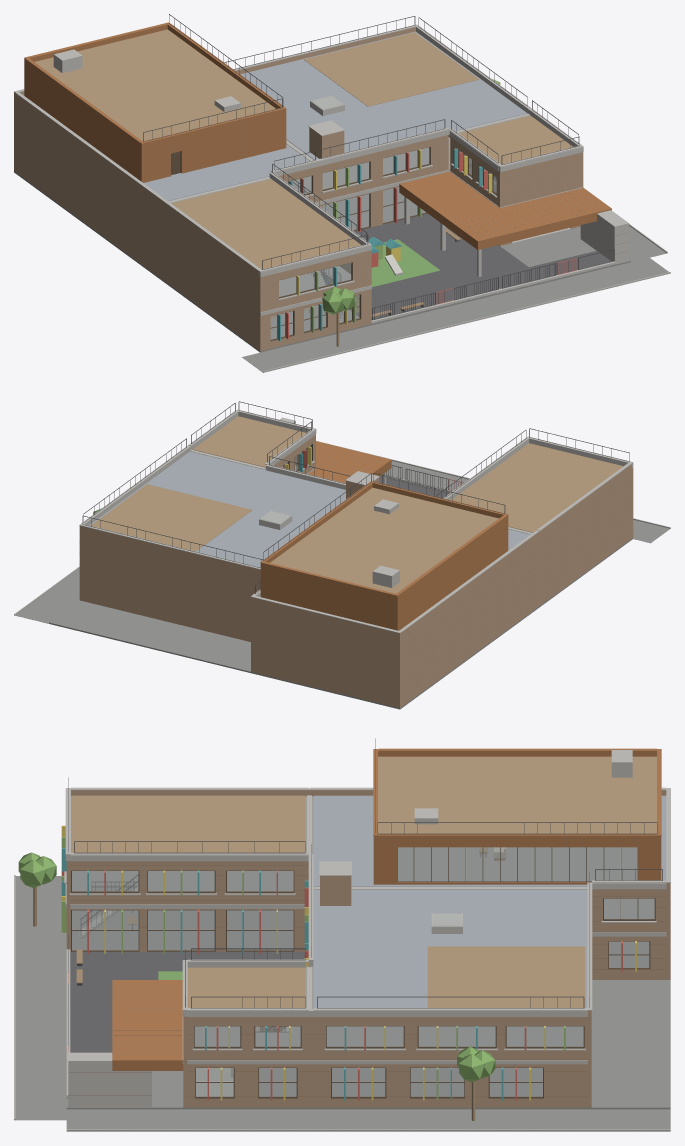
Rendered from clay-courtyard-primary-school-clay-v008.glb.
The picture shows the model from 3 angles, top to bottom: view 1: azimuth 30°, elevation 25°; view 2: azimuth 150°, elevation 25°; view 3: azimuth 270°, elevation 25°; orthographic projection. The views are drawn at different scales.
Parts seen in each view (by area): view 1: CLAY_WALL, CLAY_ROOF, CLAY_CORTEN, CLAY_MEMBRANE, CLAY_PALE, CLAY_FOUNDATION, CLAY_COURT, CLAY_GLASS, CLAY_HARDWARE, CLAY_FLOOR, CLAY_TRIM, CLAY_PLAY (+6 smaller); view 2: CLAY_WALL, CLAY_ROOF, CLAY_CORTEN, CLAY_MEMBRANE, CLAY_FOUNDATION, CLAY_PALE, CLAY_HARDWARE, CLAY_STONE; view 3: CLAY_FOUNDATION, CLAY_ROOF, CLAY_GLASS, CLAY_WALL, CLAY_MEMBRANE, CLAY_PALE, CLAY_FLOOR, CLAY_CORTEN, CLAY_COURT, CLAY_TRIM, CLAY_HARDWARE, CLAY_JOINT (+7 smaller).
Part boxes in pixels (x1,y1,x2,y2): CLAY_WALL: (14,27,583,351); CLAY_ROOF: (35,29,572,269); CLAY_CORTEN: (24,22,611,249); CLAY_MEMBRANE: (143,31,527,201); CLAY_PALE: (14,24,628,323); CLAY_FOUNDATION: (14,165,668,372); CLAY_COURT: (322,213,614,323); CLAY_GLASS: (270,95,496,339); CLAY_HARDWARE: (143,14,614,321); CLAY_FLOOR: (171,115,529,296); CLAY_TRIM: (171,146,496,341); CLAY_PLAY: (371,239,440,287); CLAY_WALL: (79,434,633,707); CLAY_ROOF: (90,416,623,593); CLAY_CORTEN: (260,441,508,630); CLAY_MEMBRANE: (89,452,529,567); CLAY_FOUNDATION: (14,461,670,709); CLAY_PALE: (79,409,633,633); CLAY_HARDWARE: (82,401,629,593); CLAY_STONE: (14,441,670,615); CLAY_FOUNDATION: (15,876,670,1131); CLAY_ROOF: (71,756,656,1007); CLAY_GLASS: (72,847,654,1096); CLAY_WALL: (66,788,670,1107); CLAY_MEMBRANE: (313,795,666,1007); CLAY_PALE: (64,750,670,1106); CLAY_FLOOR: (72,796,654,1046); CLAY_CORTEN: (112,748,661,1070); CLAY_COURT: (67,952,304,1098); CLAY_TRIM: (71,847,655,1098); CLAY_HARDWARE: (68,738,662,1074); CLAY_JOINT: (69,836,666,1096).
Bounding box in the file's own units: 46 × 12.98 × 50.03.
